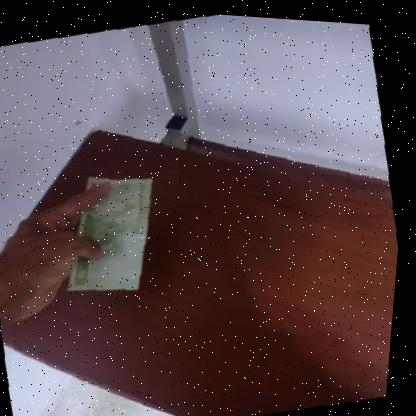fifty-back-vef: (42, 156, 183, 308)
